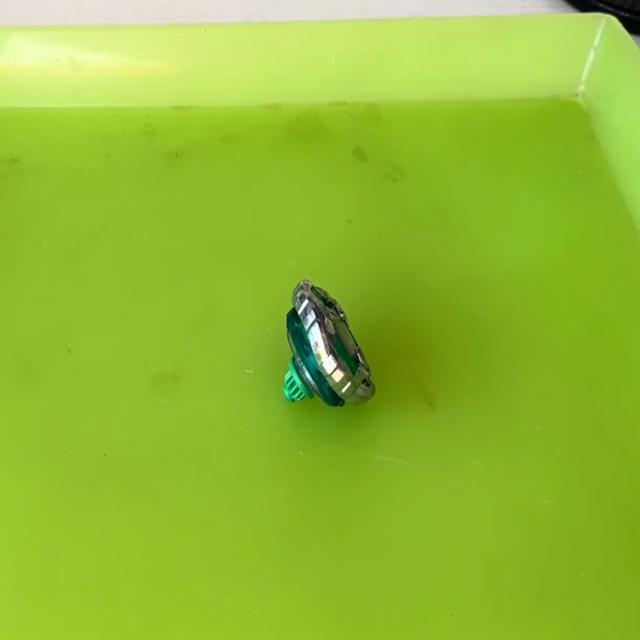Beyblade: (281, 278, 375, 408)
